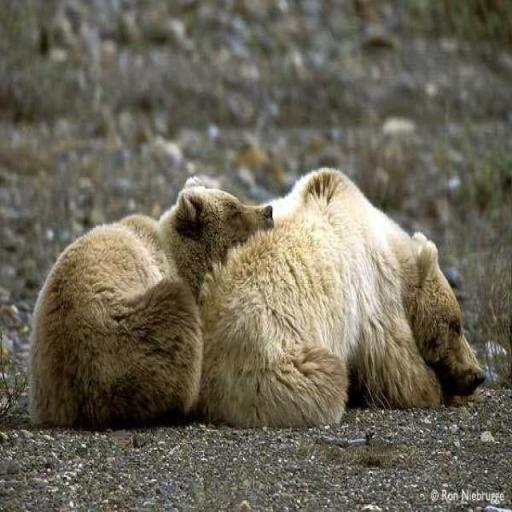Bear: (195, 164, 486, 429), (25, 177, 273, 430)
